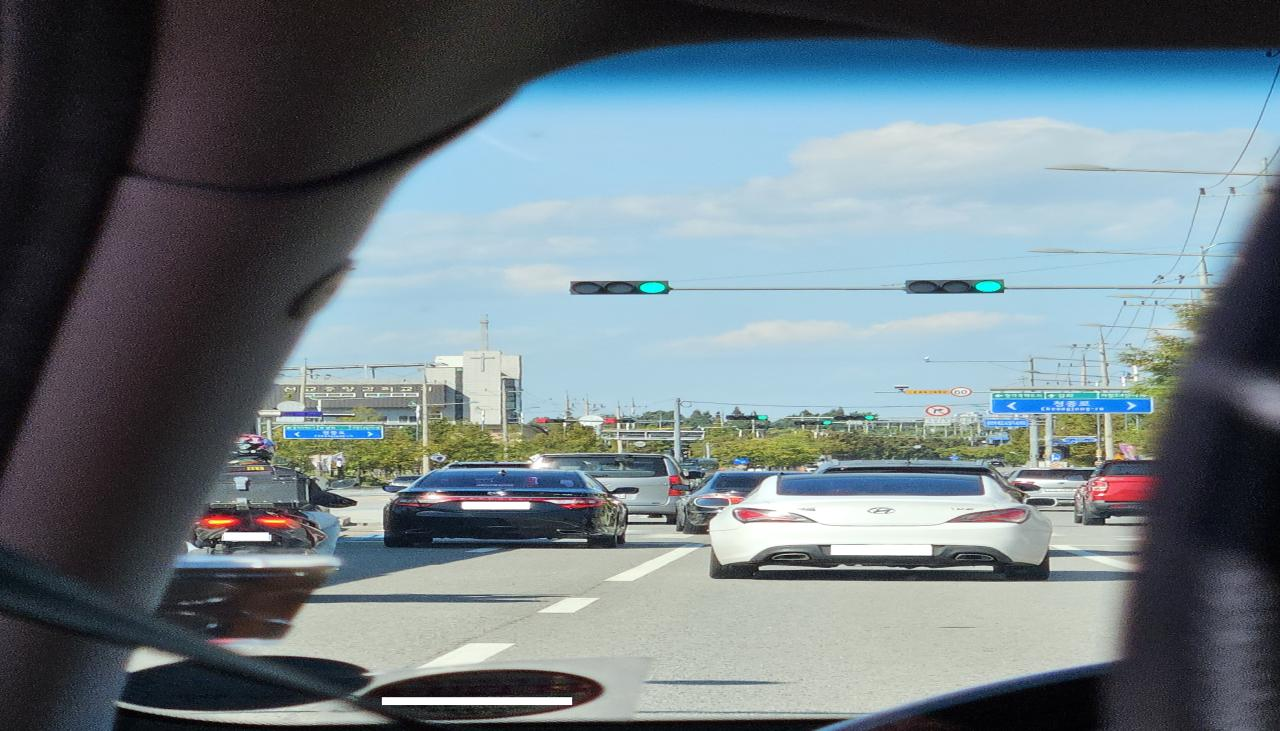Green Light: (636, 281, 669, 294), (972, 280, 1004, 293)
